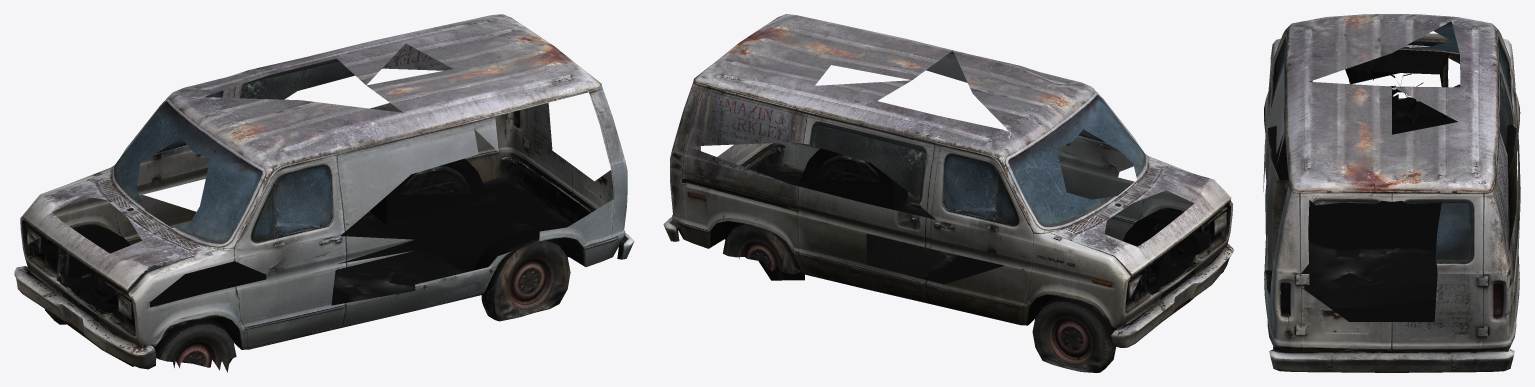
3 renders of one model, left to right at view 1: azimuth 30°, elevation 25°; view 2: azimuth 150°, elevation 25°; view 3: azimuth 270°, elevation 25°, orthographic. The views are drawn at different scales.
Parts seen in each view (by area): view 1: Graffiti Van Template_0; view 2: Graffiti Van Template_0; view 3: Graffiti Van Template_0.
Part boxes in pixels (x1,y1,x2,y2): Graffiti Van Template_0: [14, 14, 634, 372]; Graffiti Van Template_0: [663, 14, 1234, 372]; Graffiti Van Template_0: [1263, 14, 1520, 372].
Bounding box in the file's own units: 98.53 × 39.79 × 42.4.
1 material, 1 textured.
